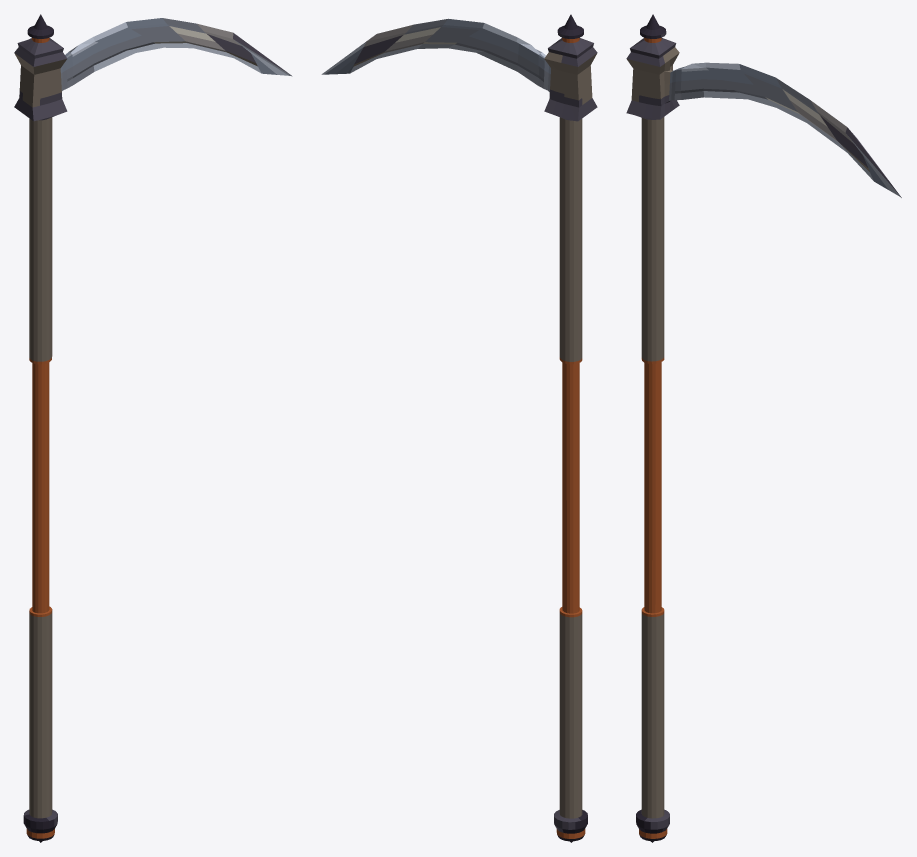
File: scythes.glb
3 views of the same model, side by side, from view 1: azimuth 30°, elevation 25°; view 2: azimuth 150°, elevation 25°; view 3: azimuth 330°, elevation 25° (orthographic).
Visible parts, largest first — view 1: ColorFinish; view 2: ColorFinish; view 3: ColorFinish.
Part boxes in pixels (x1,y1,x2,y2): ColorFinish: (14, 14, 292, 842); ColorFinish: (321, 14, 597, 842); ColorFinish: (626, 14, 901, 842).
Size of the model in its own units: 0.2705 by 0.8 by 0.0342.
